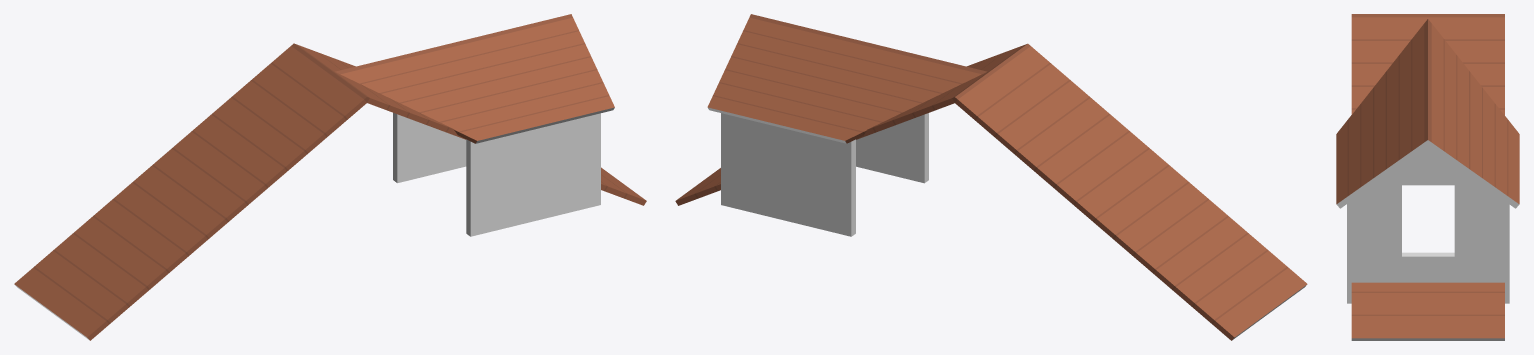
Rendered from Roof4_C5_04.fbx.
3 renders of one model, left to right at view 1: azimuth 30°, elevation 25°; view 2: azimuth 150°, elevation 25°; view 3: azimuth 270°, elevation 25°, orthographic. The views are drawn at different scales.
Parts seen in each view (by area): view 1: Roof4_C5_04; view 2: Roof4_C5_04; view 3: Roof4_C5_04.
Boxes of the visible parts, x1,y1,x2,y2 form: Roof4_C5_04: [14, 14, 646, 340]; Roof4_C5_04: [675, 14, 1307, 340]; Roof4_C5_04: [1336, 14, 1519, 340].
Size of the model in its own units: 1105 by 333 by 298.
